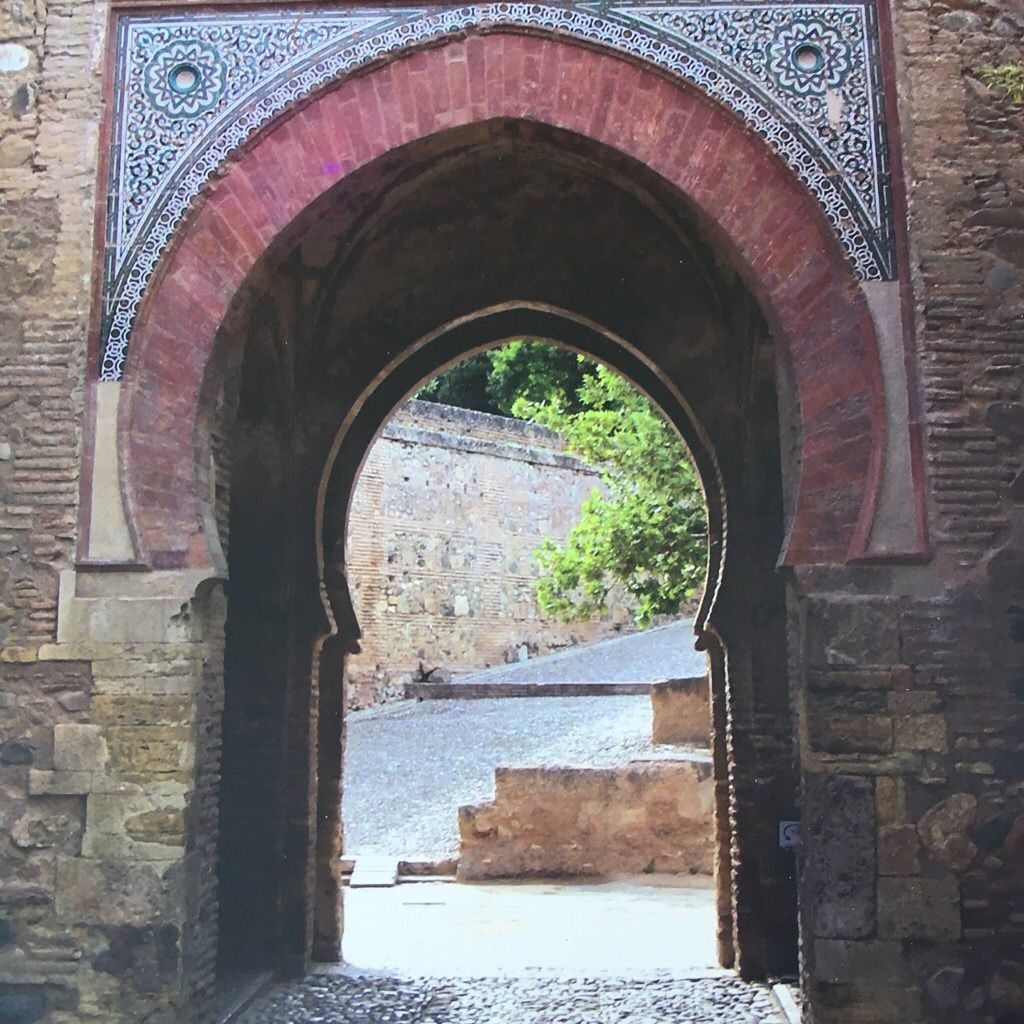arco-herradura: (163, 85, 852, 627)
